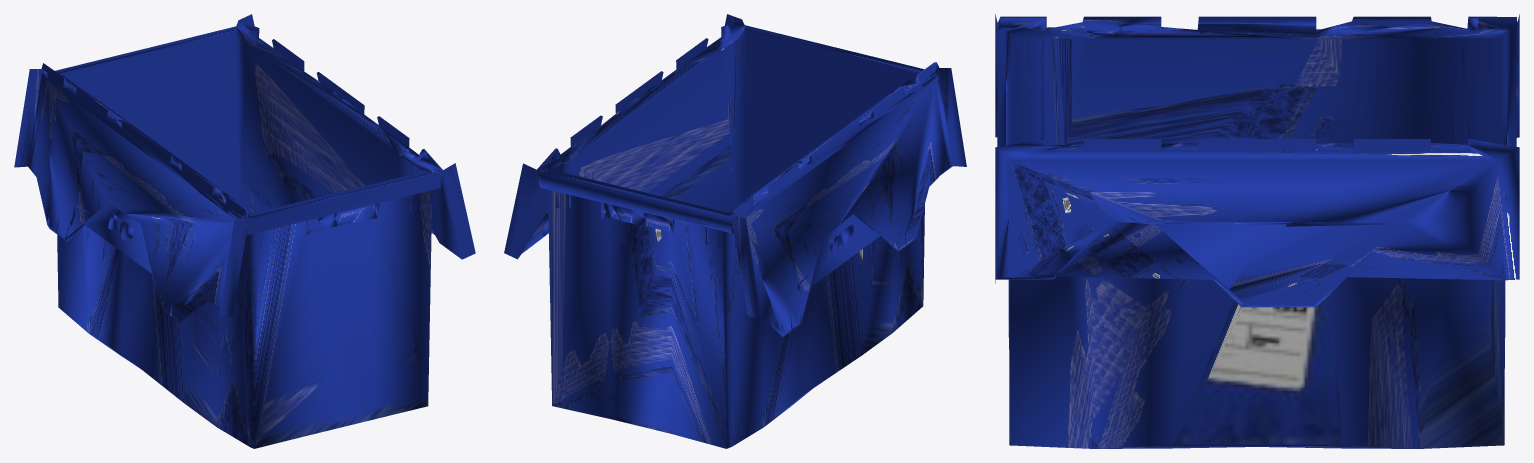
The model's file is trash_can.glb.
3 views of the same model, side by side, from view 1: azimuth 30°, elevation 25°; view 2: azimuth 150°, elevation 25°; view 3: azimuth 270°, elevation 25° (orthographic). The views are drawn at different scales.
Bounding box in the file's own units: 0.4572 × 0.4188 × 0.6314.
Materials: 1 (1 with a texture image).
